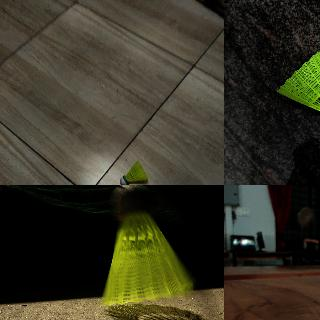shuttlecock: (99, 185, 195, 305), (276, 52, 319, 126), (119, 160, 148, 184)
